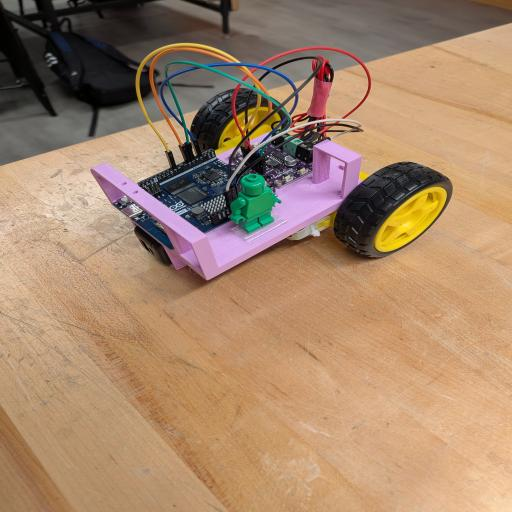Minifig: (230, 174, 281, 233)
